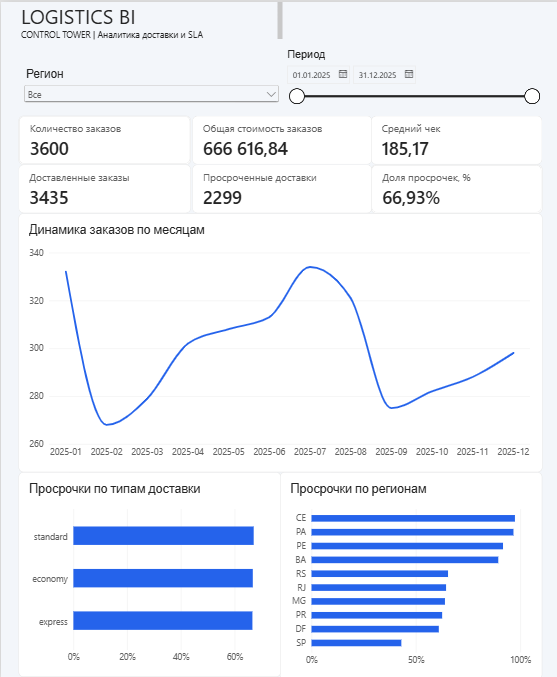

The dashboard page shown, as its layout file describes it:
{"tool":"powerbi","page":{"name":"Logistics Overview","canvas":[900,1080],"ordinal":0},"visuals":[{"type":"cardVisual","fields":{"Data":["fact_orders.Количество заказов"]},"box":[28,182,276,78],"z":0},{"type":"cardVisual","fields":{"Data":["fact_orders.Общая стоимость заказов"]},"box":[306,182,288,78],"z":1000},{"type":"cardVisual","fields":{"Data":["fact_orders.Средний чек"]},"box":[592,182,274,78],"z":2000},{"type":"cardVisual","fields":{"Data":["fact_orders.Доставленные заказы"]},"box":[28,260,276,78],"z":3000},{"type":"cardVisual","fields":{"Data":["fact_orders.Просроченные доставки"]},"box":[306,260,288,78],"z":4000},{"type":"cardVisual","fields":{"Data":["fact_orders.Процент просроченных доставок"]},"box":[592,260,274,78],"z":5000},{"type":"lineChart","title":"Динамика заказов по месяцам","fields":{"Category":["dim_date.year_month"],"Y":["fact_orders.Количество заказов"]},"box":[28,338,838,414],"z":6000},{"type":"clusteredBarChart","title":"Просрочки по регионам","fields":{"Category":["dim_region.state"],"Y":["fact_orders.Процент просроченных доставок"]},"box":[446,752,420,332],"z":7000},{"type":"clusteredBarChart","title":"Просрочки по типам доставки","fields":{"Category":["dim_service.service_type"],"Y":["fact_orders.Процент просроченных доставок"]},"box":[28,752,420,328],"z":8000},{"type":"slicer","fields":{"Values":["dim_region.state"]},"box":[32,104,418,64],"z":9000},{"type":"slicer","fields":{"Values":["dim_date.calendar_date"]},"box":[450,74,416,148],"z":10000},{"type":"textbox","box":[32,0,418,60],"z":11000}]}

Visuals, with their boxes in screenshot pixels (x1, y1, x2, y2), scaled from the page's 900x1080 canvas onto the 557x677 screenshot:
cardVisual - fact_orders.Количество заказов: locate(17, 114, 188, 163)
cardVisual - fact_orders.Общая стоимость заказов: locate(189, 114, 368, 163)
cardVisual - fact_orders.Средний чек: locate(366, 114, 536, 163)
cardVisual - fact_orders.Доставленные заказы: locate(17, 163, 188, 212)
cardVisual - fact_orders.Просроченные доставки: locate(189, 163, 368, 212)
cardVisual - fact_orders.Процент просроченных доставок: locate(366, 163, 536, 212)
"Динамика заказов по месяцам" lineChart: locate(17, 212, 536, 471)
"Просрочки по регионам" clusteredBarChart: locate(276, 471, 536, 676)
"Просрочки по типам доставки" clusteredBarChart: locate(17, 471, 277, 676)
slicer - dim_region.state: locate(20, 65, 278, 105)
slicer - dim_date.calendar_date: locate(278, 46, 536, 139)
textbox: locate(20, 0, 278, 38)
